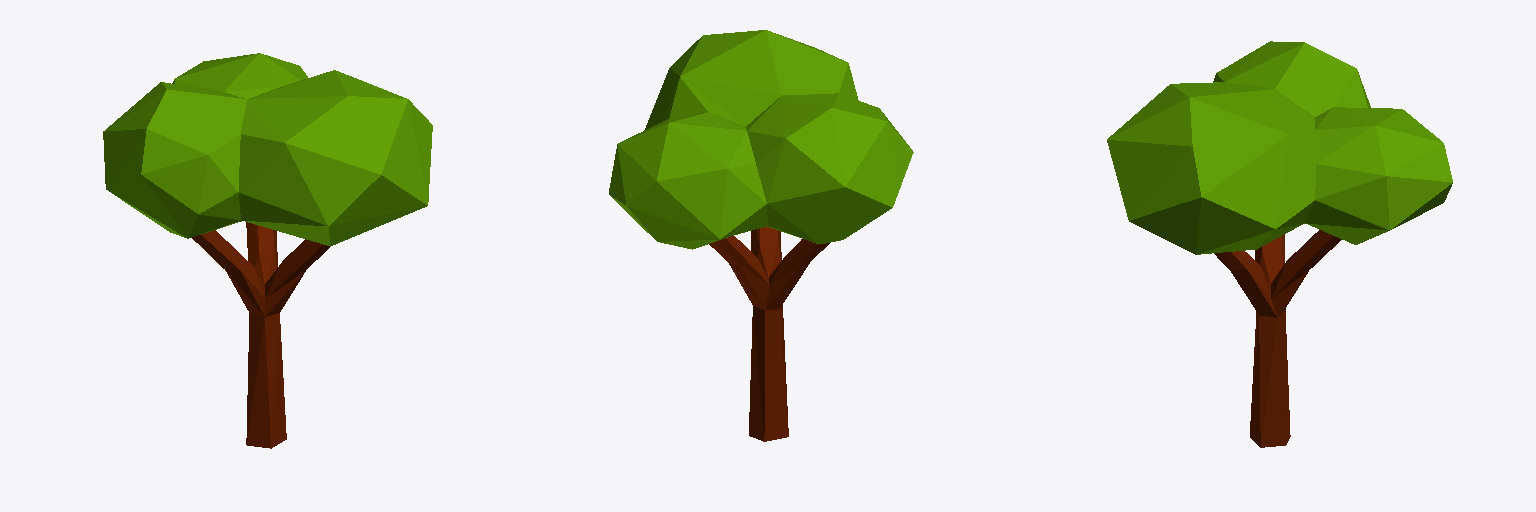
The model's file is tree.obj.
3 renders of one model, left to right at view 1: azimuth 30°, elevation 25°; view 2: azimuth 150°, elevation 25°; view 3: azimuth 270°, elevation 25°, orthographic.
Visible parts, largest first — view 1: Icosphere.001_tree_leaves, Icosphere_Icosphere.004; view 2: Icosphere.001_tree_leaves, Icosphere_Icosphere.004; view 3: Icosphere.001_tree_leaves, Icosphere_Icosphere.004.
Part boxes in pixels (left/top/right/bottom): Icosphere.001_tree_leaves: left=103, top=53, right=432, bottom=246; Icosphere_Icosphere.004: left=192, top=222, right=329, bottom=448; Icosphere.001_tree_leaves: left=609, top=30, right=913, bottom=249; Icosphere_Icosphere.004: left=709, top=226, right=829, bottom=441; Icosphere.001_tree_leaves: left=1107, top=41, right=1452, bottom=254; Icosphere_Icosphere.004: left=1214, top=230, right=1341, bottom=447.
Size of the model in its own units: 5.2 by 6.55 by 5.67.